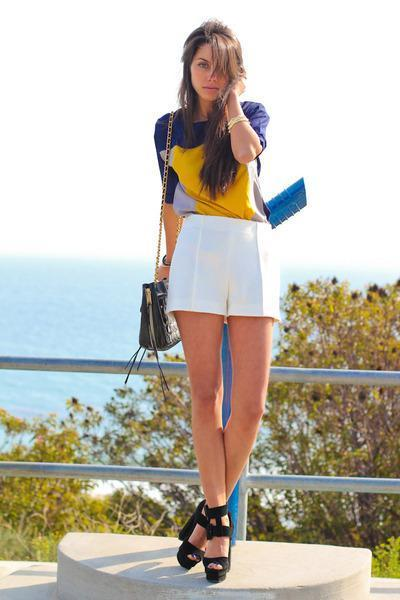bag: (140, 178, 306, 347)
shirt: (154, 101, 272, 221)
shoe: (177, 500, 233, 582)
shorts: (165, 214, 288, 320)
